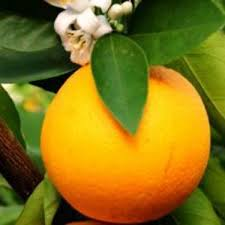orange: (32, 57, 211, 223)
